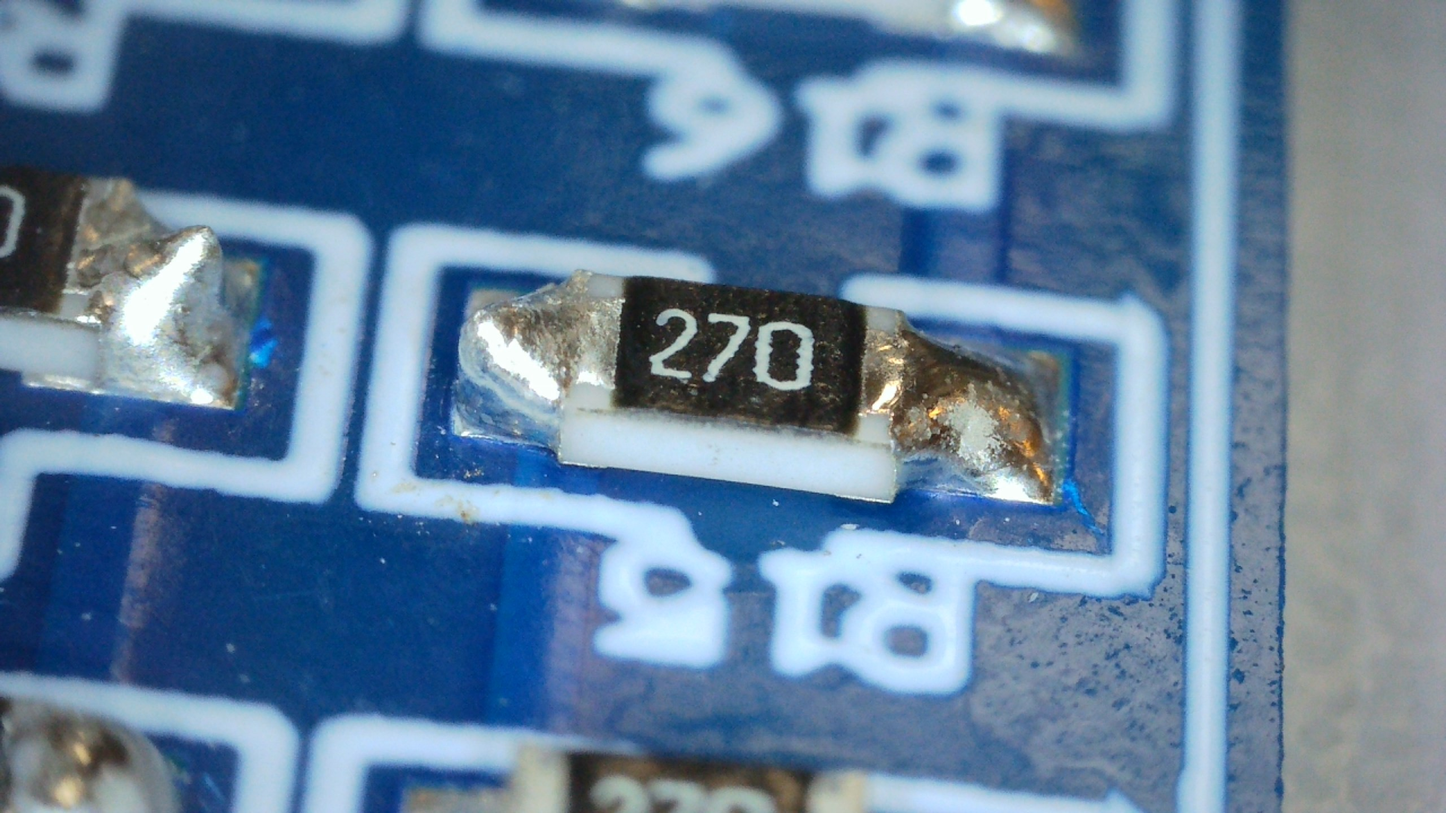NG: (858, 307, 1056, 503), (459, 285, 565, 427)
